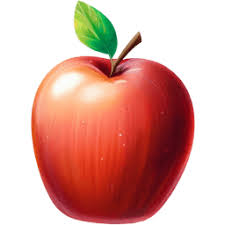apple: (32, 56, 194, 222)
